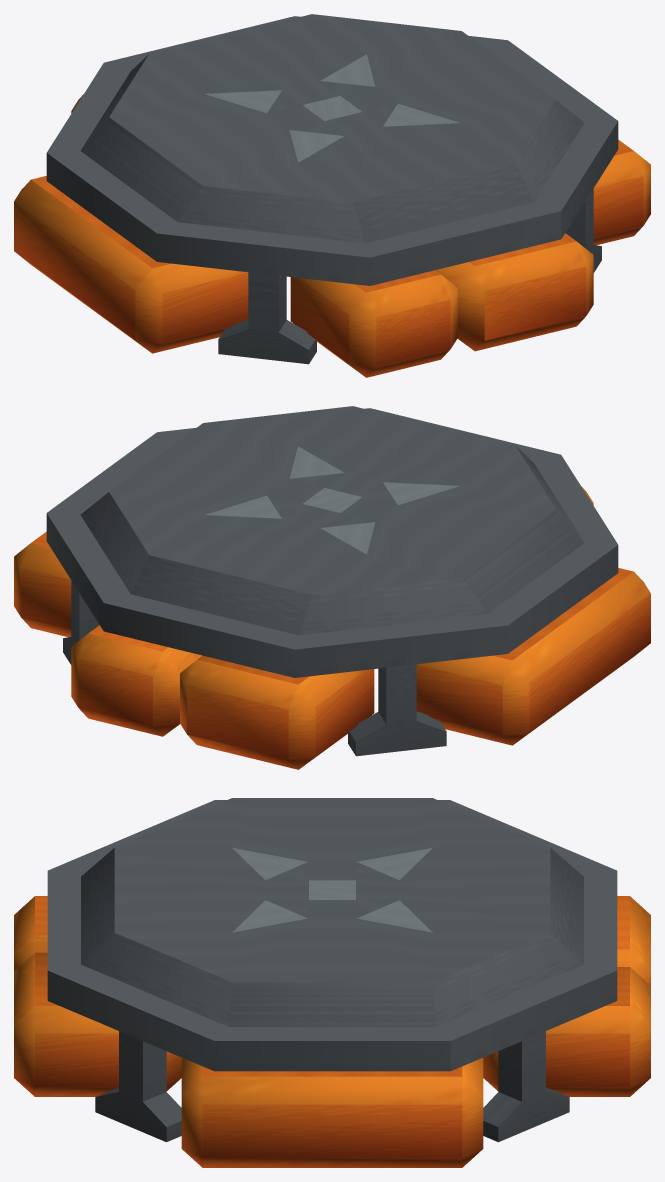
The model's file is landingpad-small.glb.
3 renders of one model, top to bottom at view 1: azimuth 30°, elevation 25°; view 2: azimuth 150°, elevation 25°; view 3: azimuth 270°, elevation 25°, orthographic. The views are drawn at different scales.
Visible parts, largest first — view 1: landingpad_small; view 2: landingpad_small; view 3: landingpad_small.
Boxes of the visible parts, x1,y1,x2,y2 form: landingpad_small: (14, 14, 650, 377); landingpad_small: (14, 406, 650, 769); landingpad_small: (14, 798, 650, 1167).
Size of the model in its own units: 1.9 by 0.5 by 1.9.
1 material, 1 textured.
